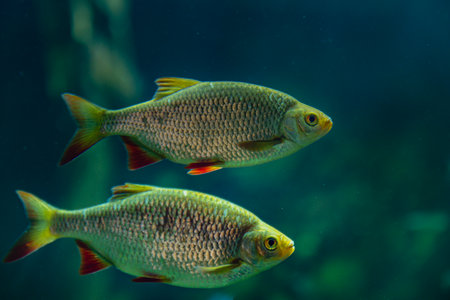Fish: (8, 183, 296, 290), (58, 76, 333, 177)
